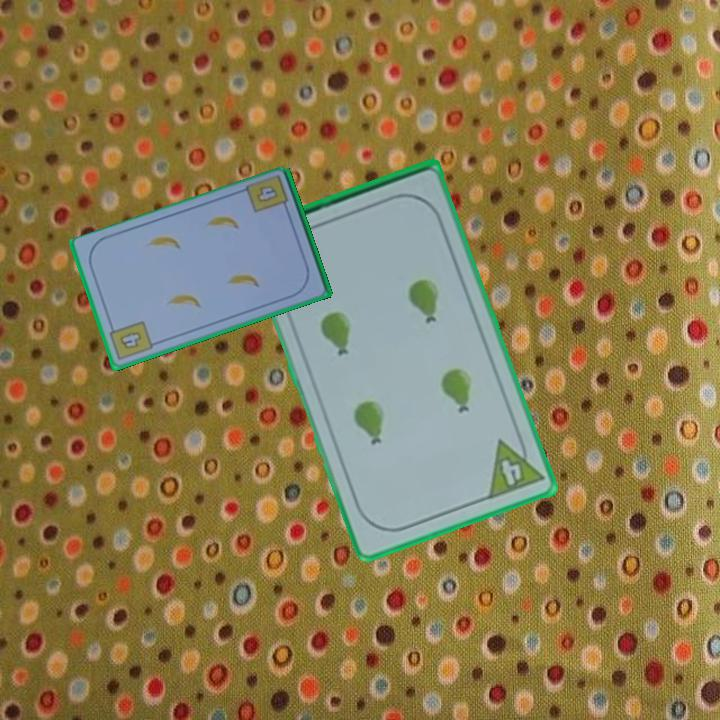4b: (106, 317, 156, 364), (252, 182, 281, 206)
4p: (484, 429, 547, 503)
